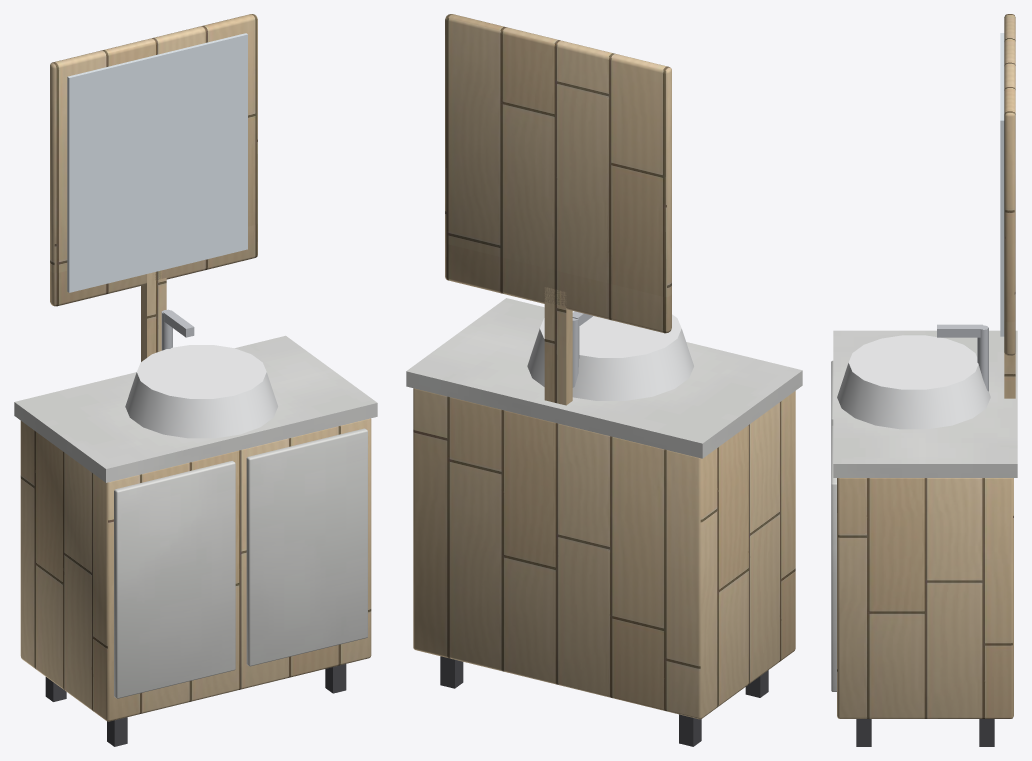
The picture shows the model from 3 angles, left to right: view 1: azimuth 30°, elevation 25°; view 2: azimuth 150°, elevation 25°; view 3: azimuth 270°, elevation 25°; orthographic projection. The views are drawn at different scales.
Visible parts, largest first — view 1: Decor_sink_vanity; view 2: Decor_sink_vanity; view 3: Decor_sink_vanity.
Part boxes in pixels (x1=…): Decor_sink_vanity: x1=14, y1=14, x2=377, y2=746; Decor_sink_vanity: x1=406, y1=14, x2=802, y2=746; Decor_sink_vanity: x1=831, y1=14, x2=1017, y2=746.
Bounding box in the file's own units: 0.82 × 1.8 × 0.485.
6 materials, 2 textured.
